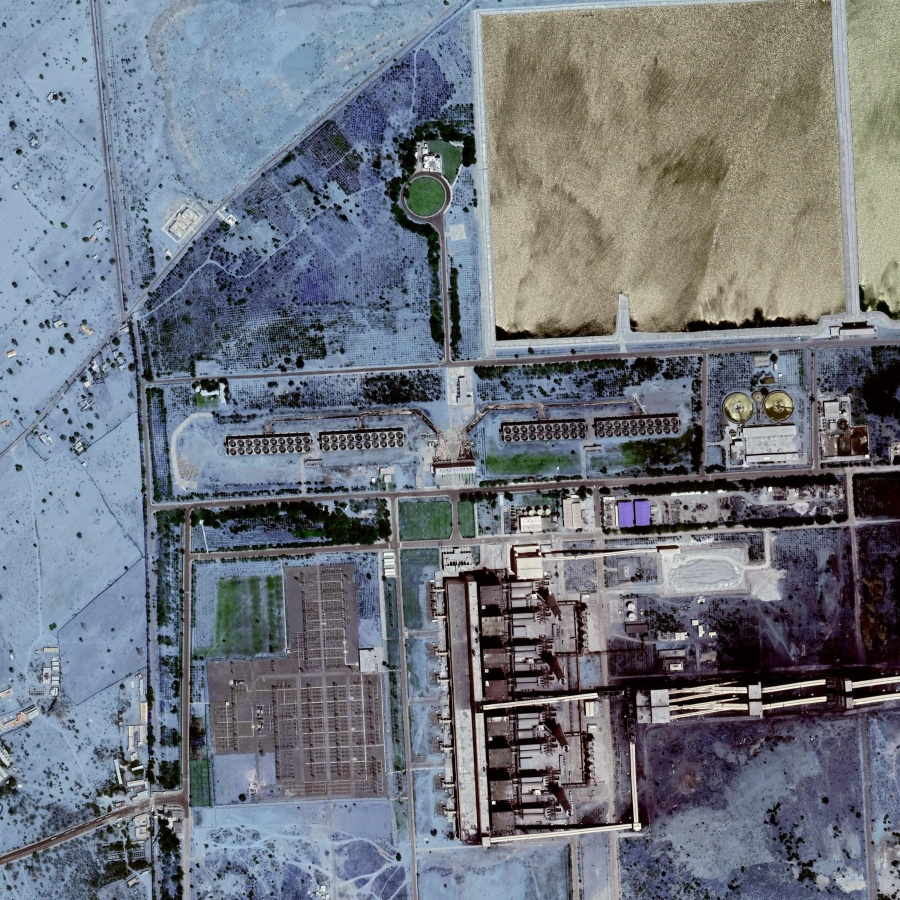PowerPlant: (438, 549, 637, 834)
